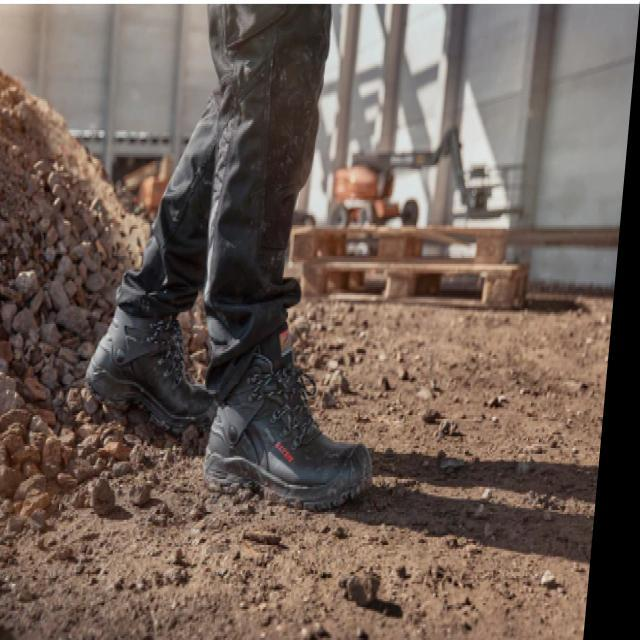boots: (66, 265, 400, 512)
